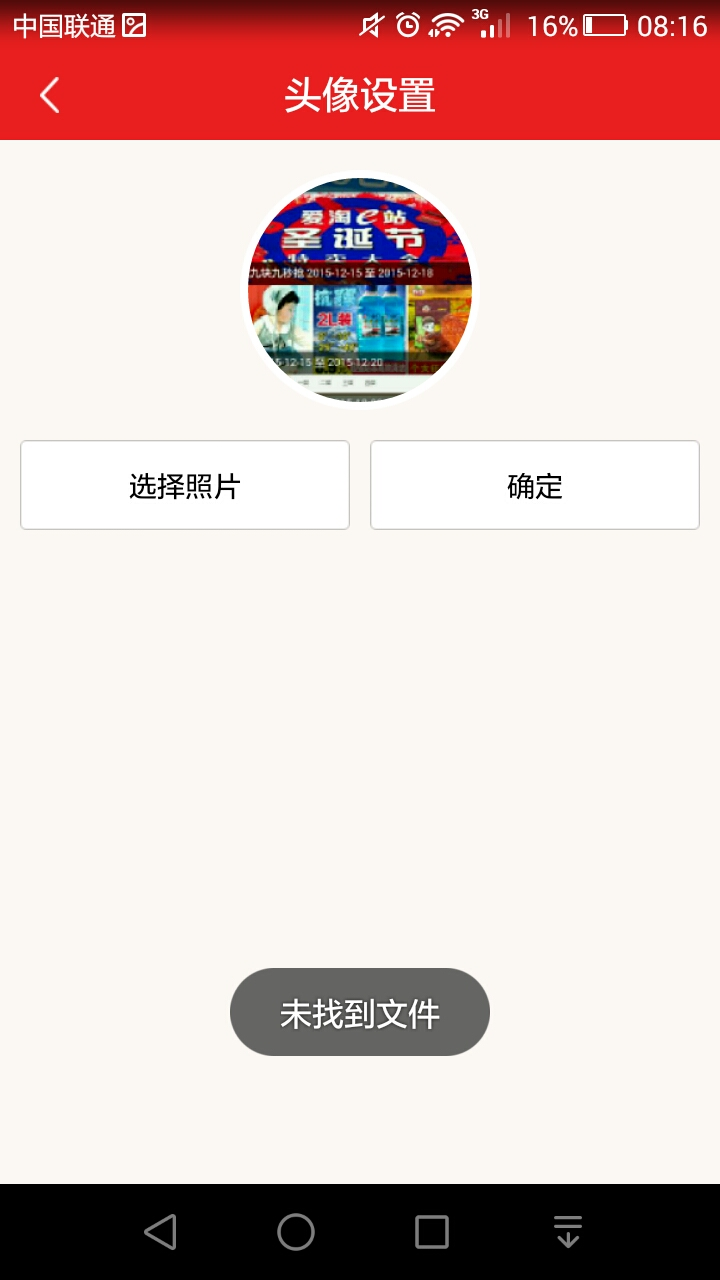alert: (213, 962, 515, 1069)
button: (363, 434, 710, 545), (7, 433, 360, 539)
imgview: (222, 169, 499, 410)
